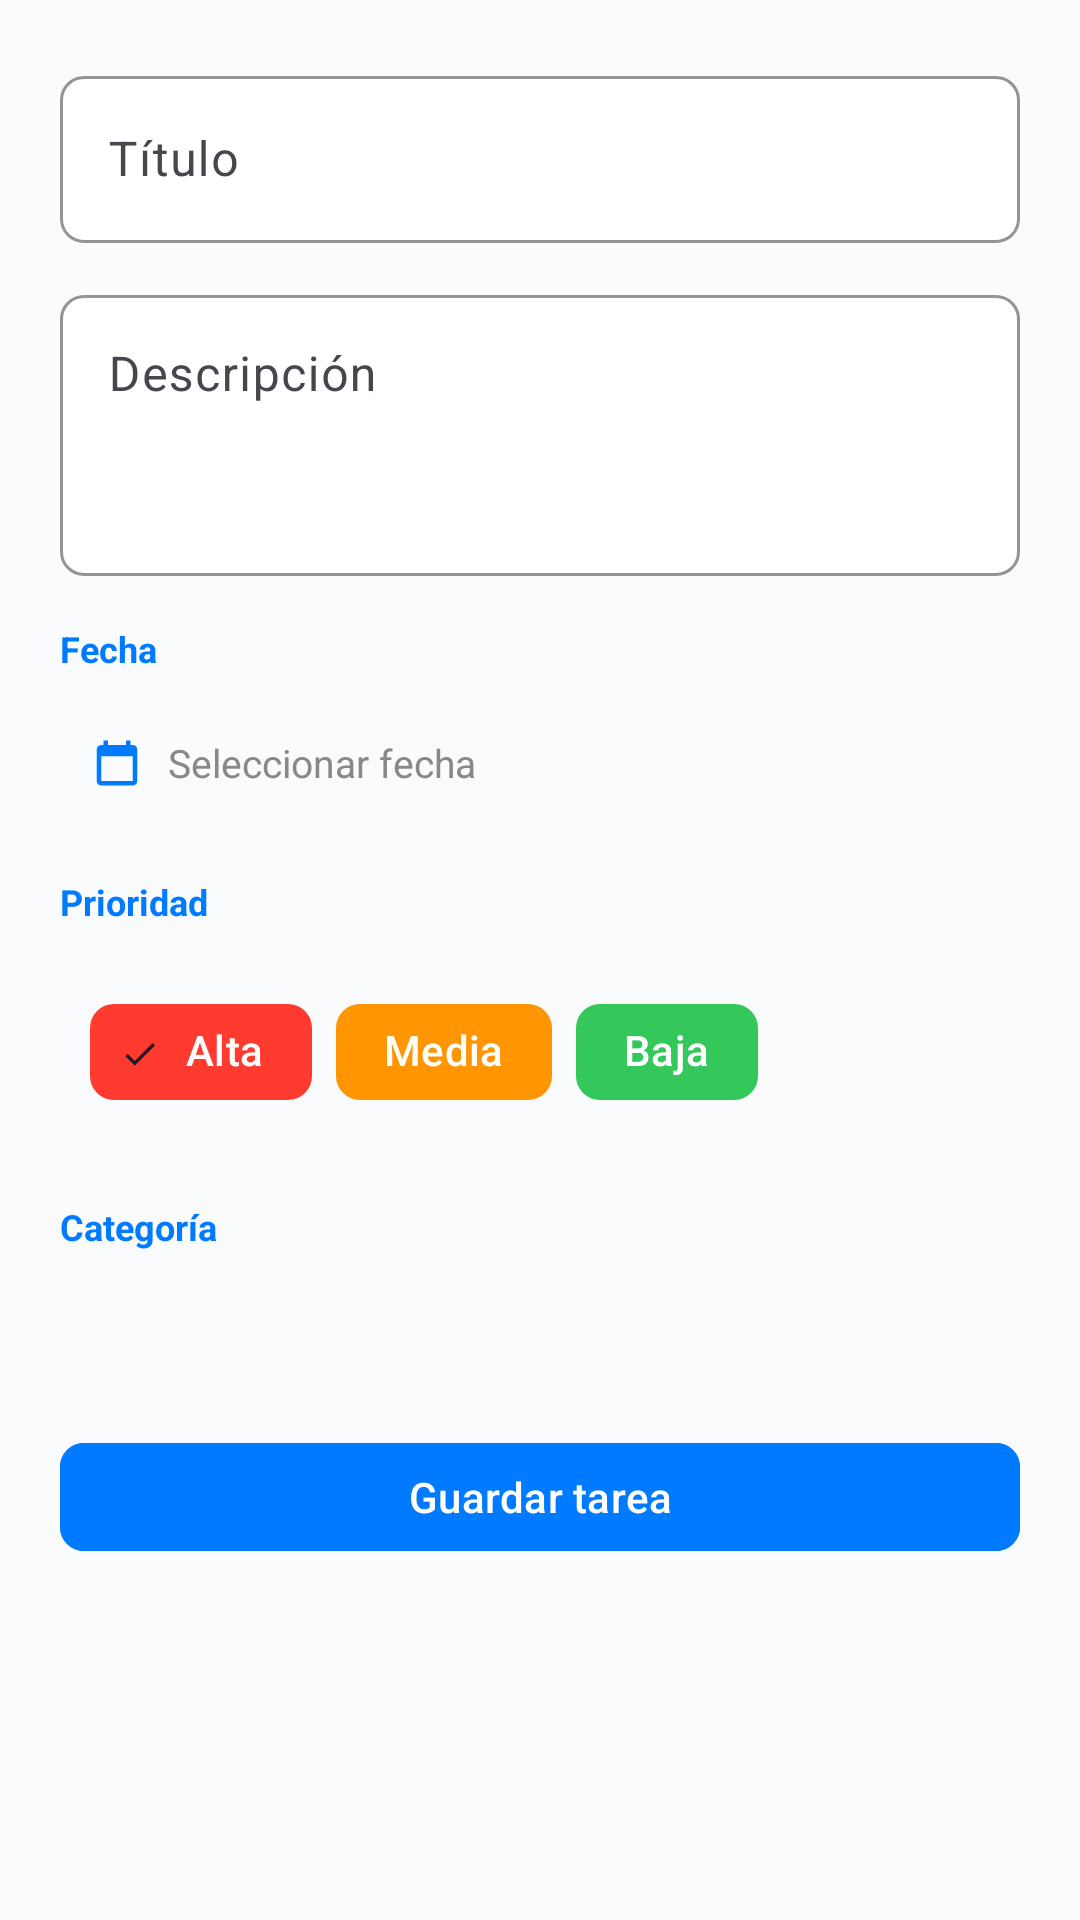

Icon click points for this 1080*1920 phone screenshot, format point (x, y):
calendar: point (117, 763)
